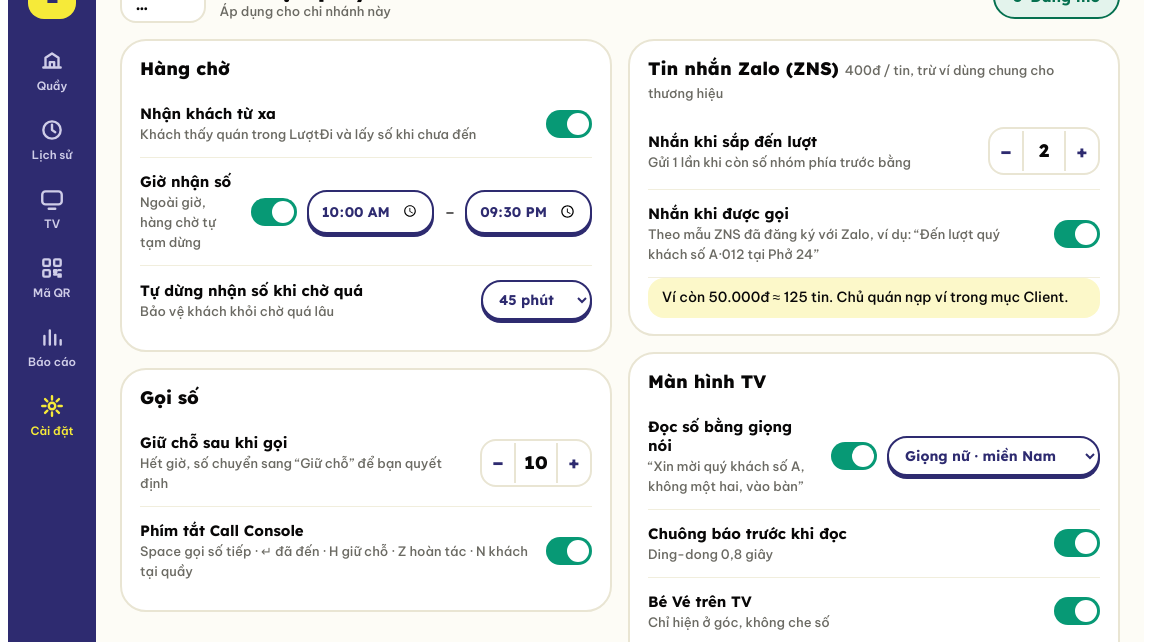
Test: SettingsPage › surfaces server field errors
Click the switch named "Bé Vé trên TV".
click(1077, 611)  # box top-left (1054, 597), bottom-right (1100, 625)
(page scrolled)
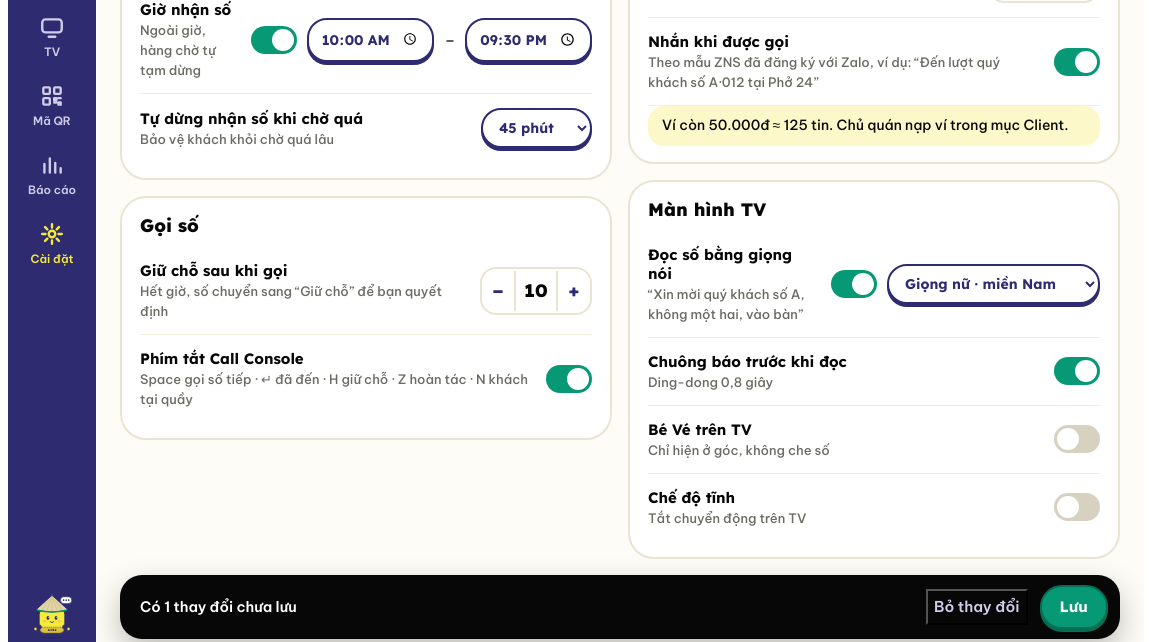
Click the button "Lưu".
click(1074, 607)  # box top-left (1040, 585), bottom-right (1108, 629)
(page scrolled)
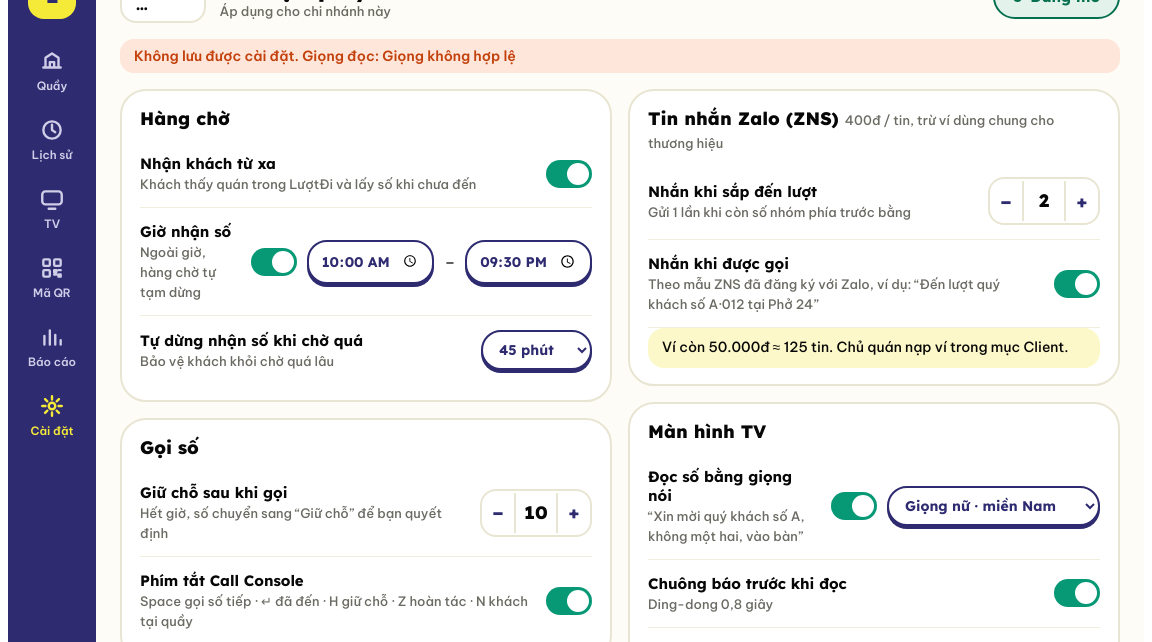
Result: the message with test id "settings-error" shows "Giọng không hợp lệ" at top-left (382, 47), bottom-right (516, 65)
